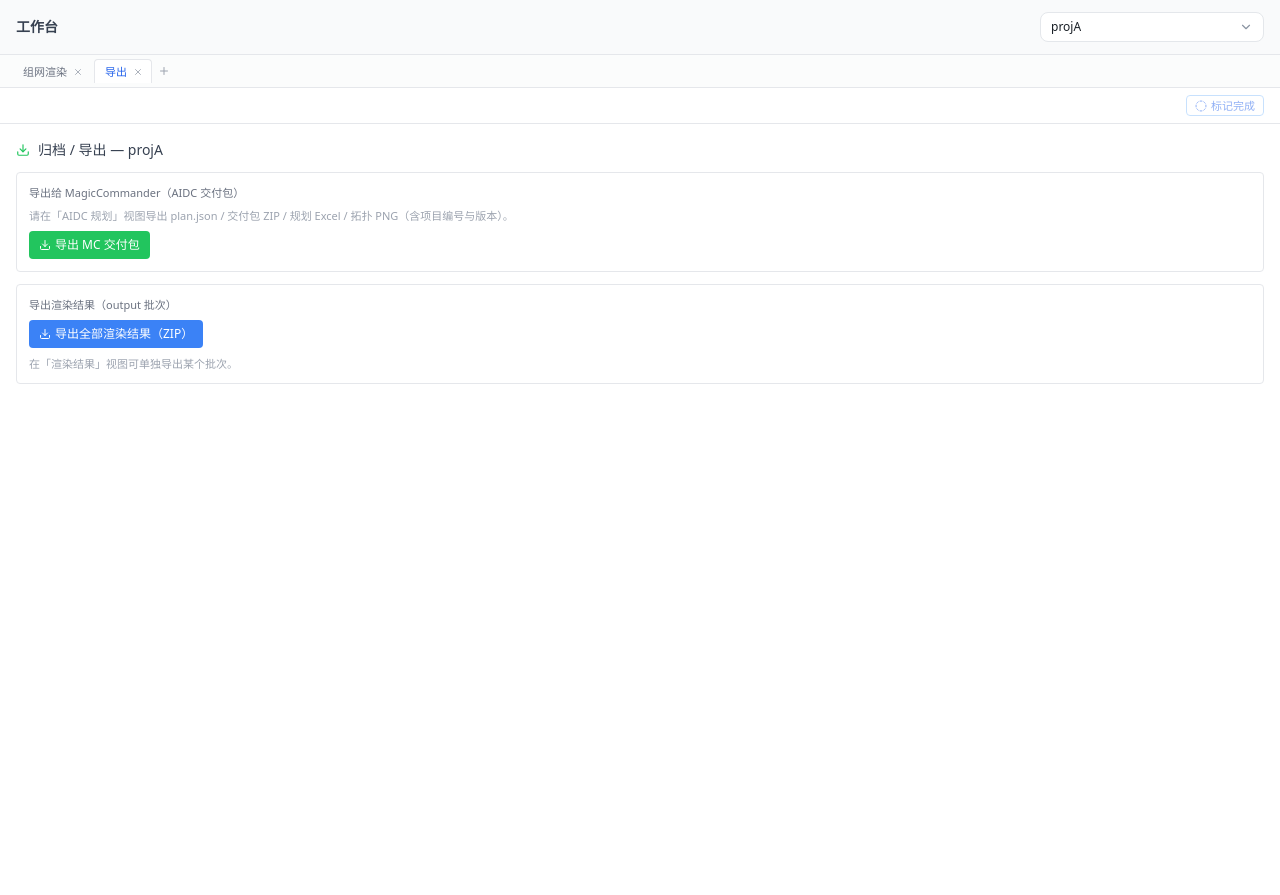
Test: M8 / AL-U2 工作台 Header 项目切换器 › 切换项目 → selectProject 更新 selectedProjectName + 子视图重置回 main
The image size is (1280, 895).
# 先切到非 main 子视图（导出），验证切换项目后子视图重置回 main
Click the button "projA". click: (1152, 27)
box: [1040,12,1264,42]
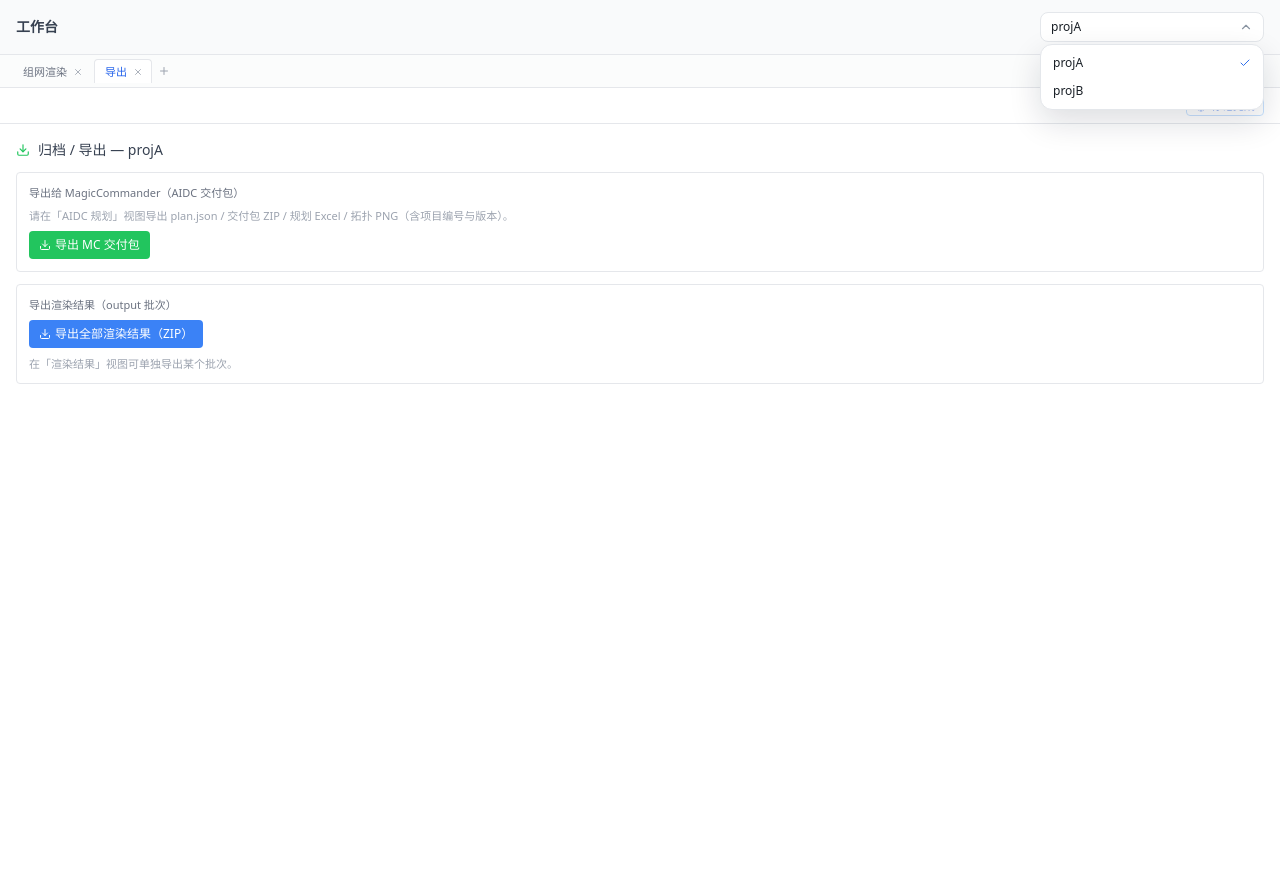
Click the option "projB". click: (1068, 90)
box: [1053,82,1083,99]
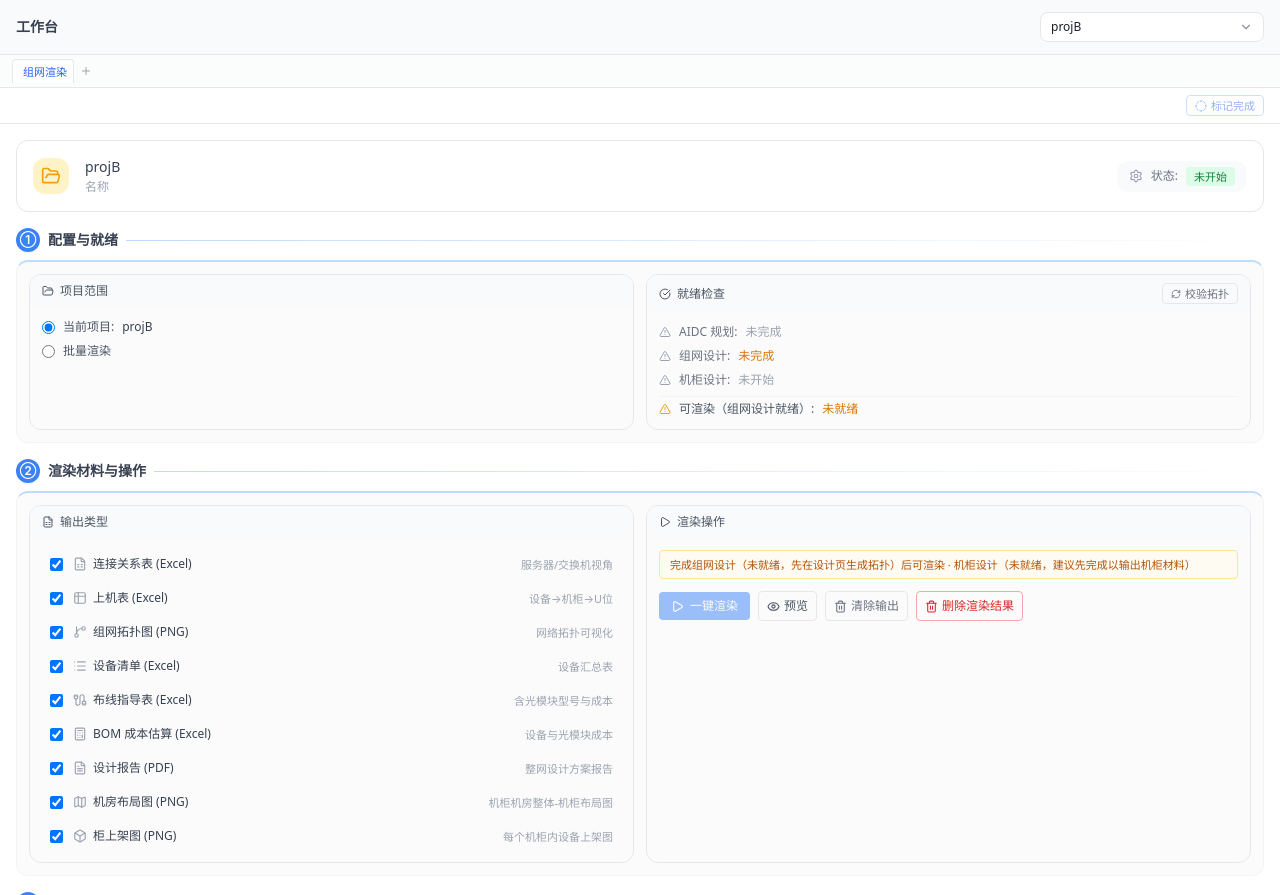
Check: the text "projB" in the row of "工作台" is shown, box [1051,19,1081,35]
